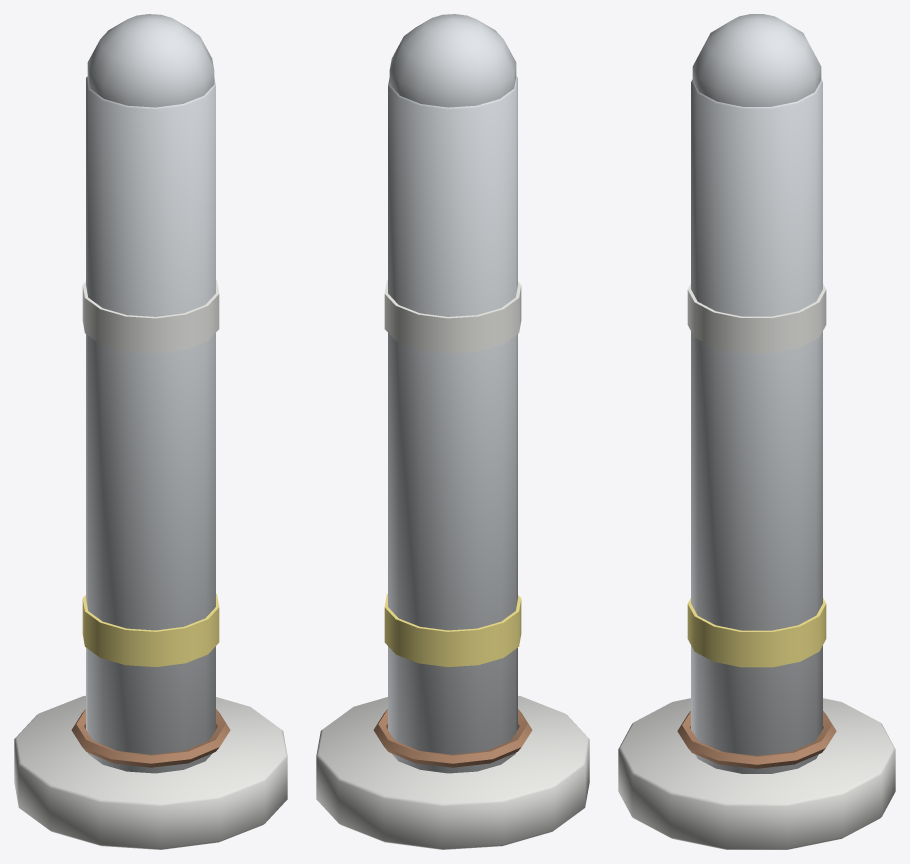
The model's file is Bollard_Fixed.fbx.
3 views of the same model, side by side, from view 1: azimuth 30°, elevation 25°; view 2: azimuth 150°, elevation 25°; view 3: azimuth 270°, elevation 25° (orthographic).
Visible parts, largest first — view 1: LOD0; view 2: LOD0; view 3: LOD0.
Part boxes in pixels (bbox=[...]): LOD0: bbox=[14, 14, 287, 849]; LOD0: bbox=[316, 14, 589, 849]; LOD0: bbox=[618, 14, 895, 849].
Size of what is drawn, in the model's own units: 31.2 by 98.6 by 32.
